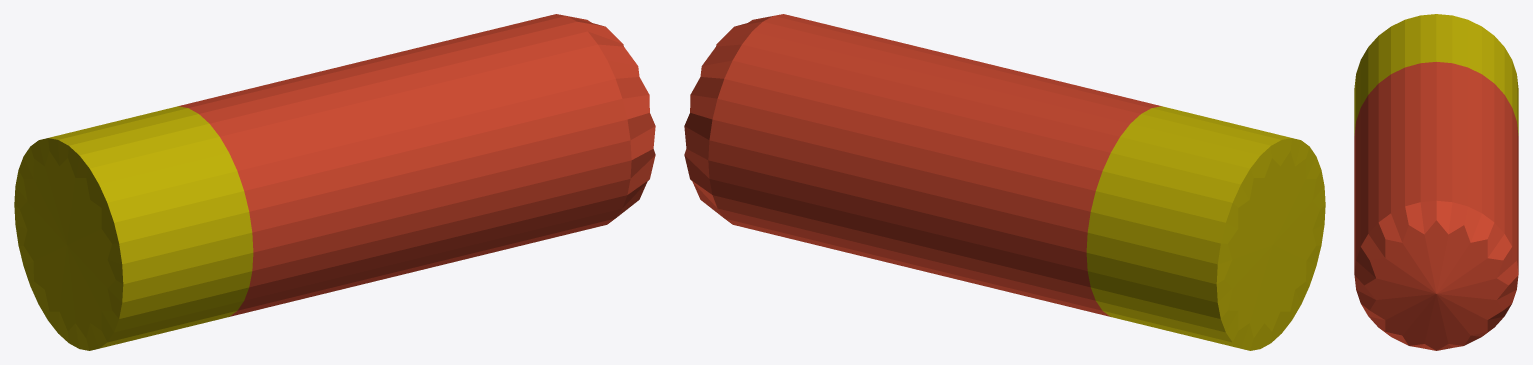
Rendered from Bullet_Fusil_a_Pompe.fbx.
3 renders of one model, left to right at view 1: azimuth 30°, elevation 25°; view 2: azimuth 150°, elevation 25°; view 3: azimuth 270°, elevation 25°, orthographic. The views are drawn at different scales.
Visible parts, largest first — view 1: Cylinder.000; view 2: Cylinder.000; view 3: Cylinder.000.
Boxes of the visible parts, box(x1,y1,x2,y2) form: Cylinder.000: box(14, 14, 655, 350); Cylinder.000: box(684, 14, 1325, 350); Cylinder.000: box(1354, 14, 1518, 350).
Bounding box in the file's own units: 82.09 × 27.6 × 27.6.
